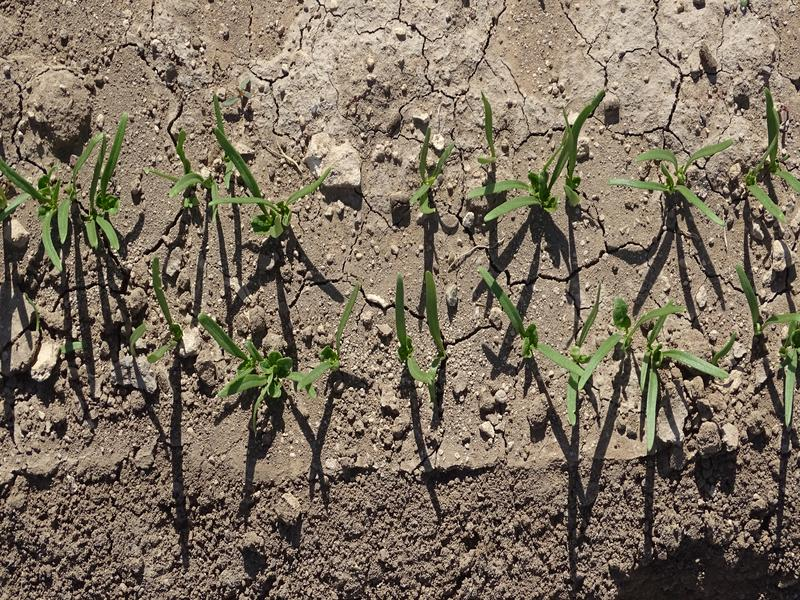Espinaca: (478, 267, 729, 453), (162, 96, 331, 243), (204, 277, 360, 412), (474, 97, 595, 230), (4, 146, 129, 259), (620, 132, 724, 228), (735, 272, 800, 421), (741, 91, 800, 214), (393, 268, 454, 382)
